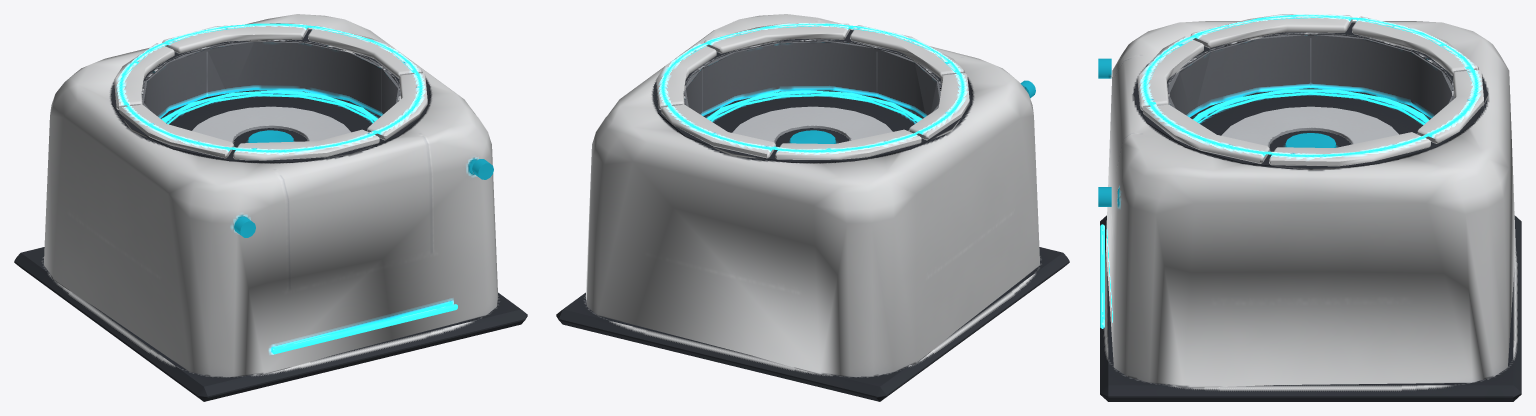
The model's file is R4X_FlyingDroneDeployer_LOD1.glb.
3 views of the same model, side by side, from view 1: azimuth 30°, elevation 25°; view 2: azimuth 150°, elevation 25°; view 3: azimuth 270°, elevation 25° (orthographic). The views are drawn at different scales.
Visible parts, largest first — view 1: R4X_FlyingDroneDeployer_LOD1; view 2: R4X_FlyingDroneDeployer_LOD1; view 3: R4X_FlyingDroneDeployer_LOD1.
Part boxes in pixels (x1,y1,x2,y2): R4X_FlyingDroneDeployer_LOD1: (14,14,527,401); R4X_FlyingDroneDeployer_LOD1: (556,14,1069,401); R4X_FlyingDroneDeployer_LOD1: (1098,14,1521,401).
Bounding box in the file's own units: 0.5 × 0.3018 × 0.502.
Materials: 1 (1 with a texture image).
